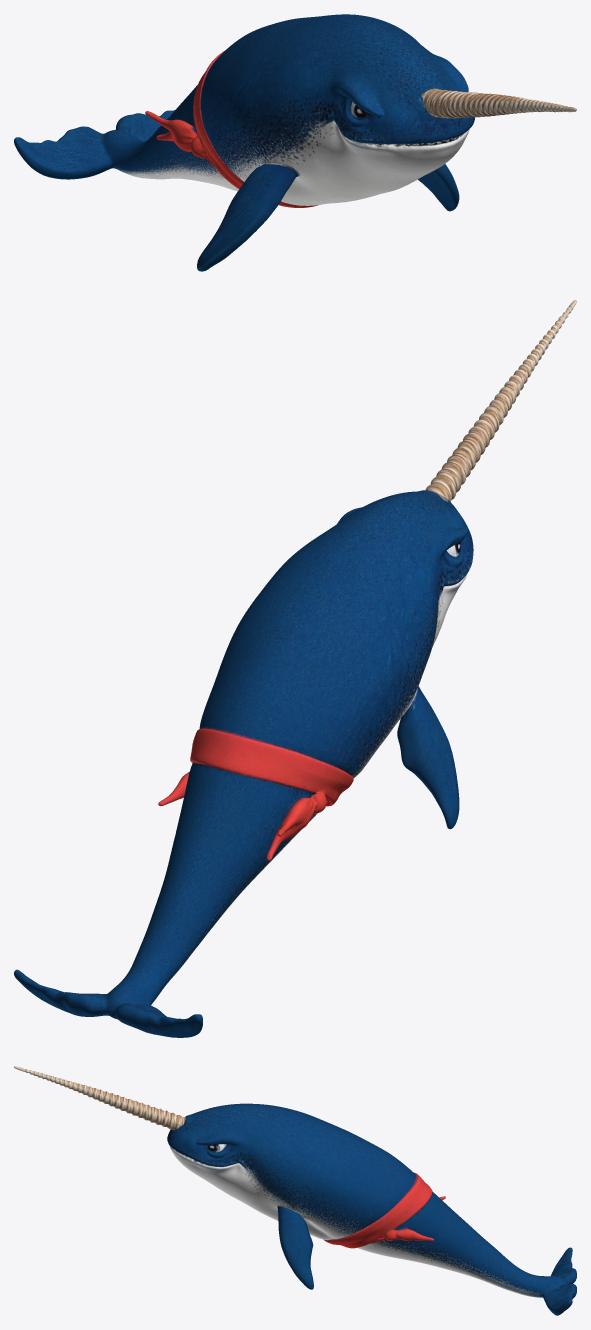
File: hero-narwhal-3d.glb
3 renders of one model, top to bottom at view 1: azimuth 30°, elevation 25°; view 2: azimuth 150°, elevation 25°; view 3: azimuth 270°, elevation 25°, orthographic. The views are drawn at different scales.
Visible parts, largest first — view 1: mesh_node; view 2: mesh_node; view 3: mesh_node.
Part boxes in pixels (bbox=[...]): mesh_node: bbox=[14, 14, 576, 271]; mesh_node: bbox=[14, 300, 576, 1037]; mesh_node: bbox=[14, 1066, 576, 1315].
Size of the model in its own units: 0.5958 by 0.8664 by 1.9.
Materials: 1 (1 with a texture image).
